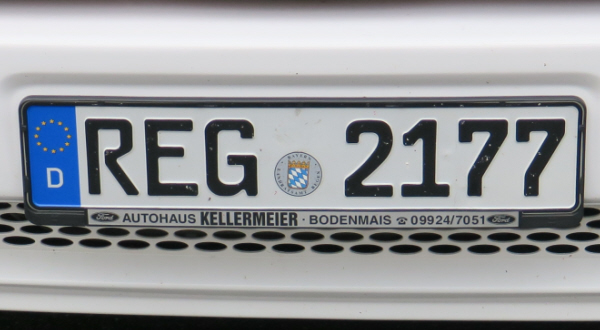license_plate: (19, 98, 577, 216)
